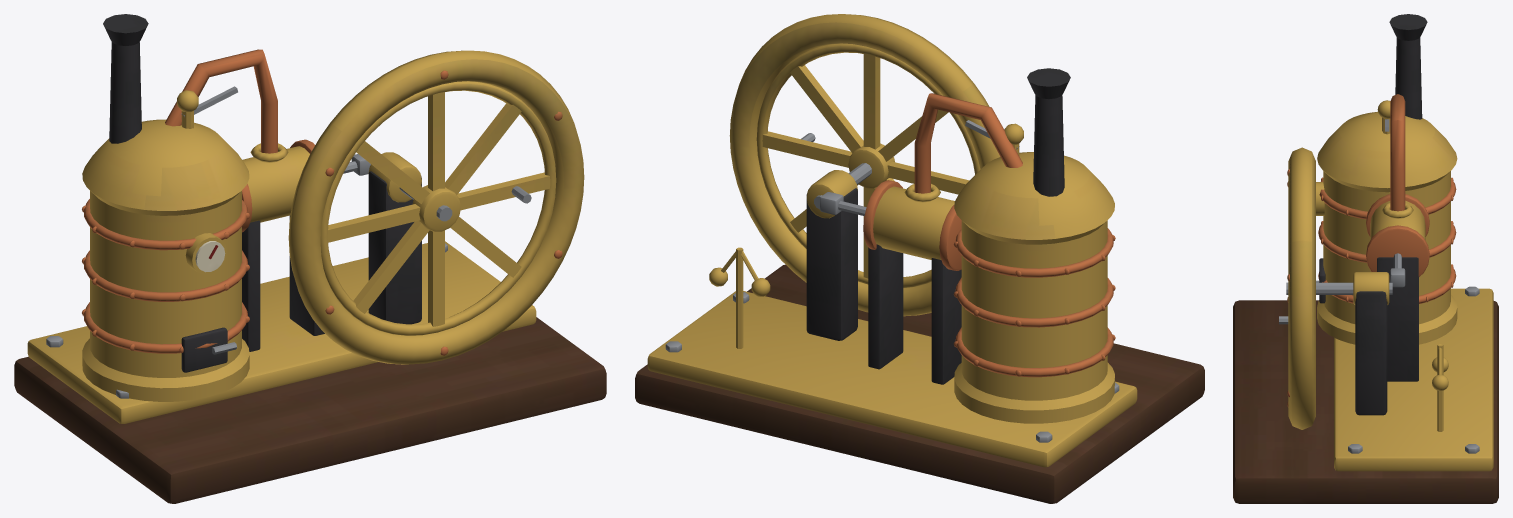
The model's file is core_steam.glb.
3 renders of one model, left to right at view 1: azimuth 30°, elevation 25°; view 2: azimuth 150°, elevation 25°; view 3: azimuth 270°, elevation 25°, orthographic. The views are drawn at different scales.
Parts seen in each view (by area): view 1: core_steam_brass_m, flywheel_brass_m, plinth, core_steam_iron_m, core_steam_copper_m, core_steam_steel_m, gaugeFace; view 2: core_steam_brass_m, flywheel_brass_m, plinth, core_steam_iron_m, core_steam_copper_m, core_steam_steel_m; view 3: core_steam_brass_m, plinth, core_steam_iron_m, flywheel_brass_m, core_steam_copper_m, core_steam_steel_m.
Part boxes in pixels (x1,y1,x2,y2): core_steam_brass_m: [27, 90, 536, 423]; flywheel_brass_m: [288, 50, 584, 364]; plinth: [14, 317, 606, 503]; core_steam_iron_m: [103, 14, 421, 372]; core_steam_copper_m: [82, 49, 314, 353]; core_steam_steel_m: [46, 86, 452, 398]; gaugeFace: [195, 241, 225, 272]; core_steam_brass_m: [647, 123, 1137, 467]; flywheel_brass_m: [729, 14, 1000, 316]; plinth: [635, 264, 1204, 503]; core_steam_iron_m: [806, 68, 1070, 384]; core_steam_copper_m: [863, 93, 1115, 377]; core_steam_steel_m: [665, 120, 1119, 442]; core_steam_brass_m: [1316, 100, 1493, 471]; plinth: [1233, 300, 1498, 503]; core_steam_iron_m: [1319, 14, 1427, 415]; flywheel_brass_m: [1288, 147, 1315, 429]; core_steam_copper_m: [1318, 94, 1456, 303]; core_steam_steel_m: [1286, 119, 1479, 453].
Bounding box in the file's own units: 0.413 × 0.342 × 0.25.
7 materials, 6 textured.
